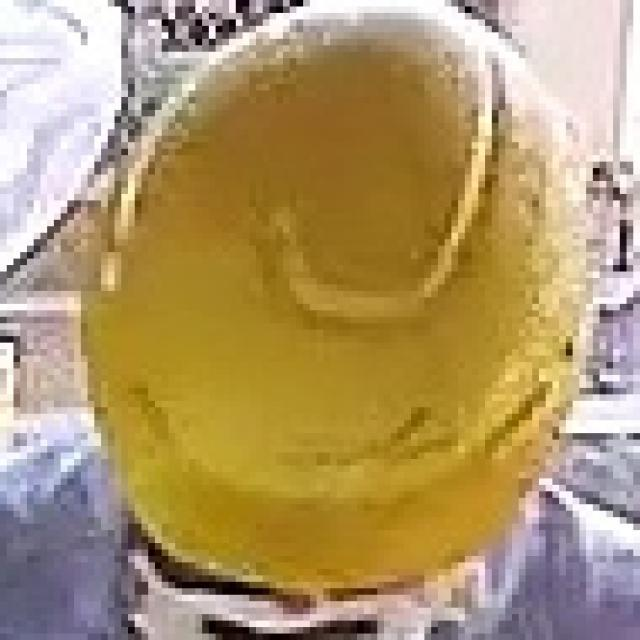yellow helmet: (78, 7, 593, 599)
